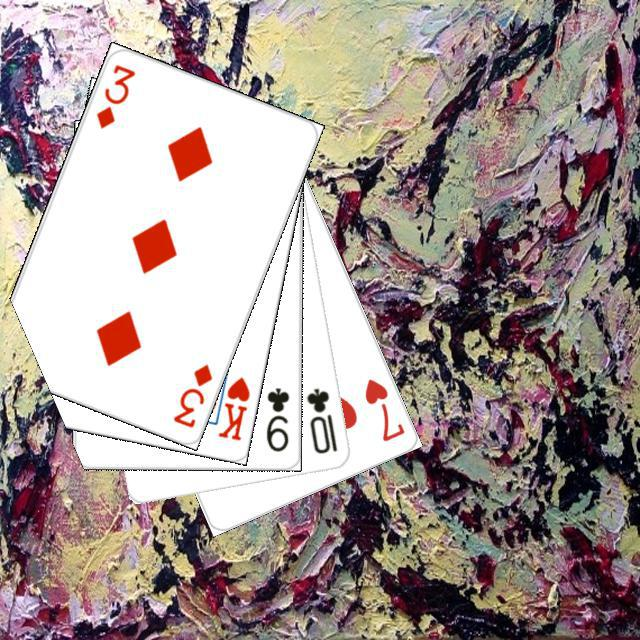10c: (301, 383, 339, 456)
3d: (167, 359, 214, 430), (91, 59, 137, 130)
7h: (359, 373, 407, 444)
9c: (262, 383, 291, 453)
Kh: (206, 362, 252, 443)
